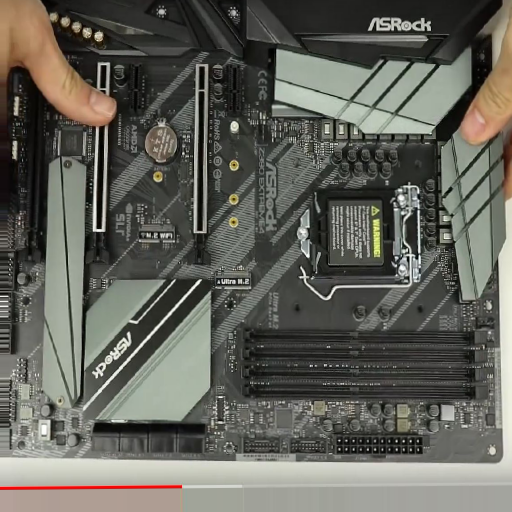CPU: (291, 186, 410, 281)
GPU: (183, 64, 214, 268), (15, 65, 45, 267), (85, 61, 112, 267)
MOTHERBOARD: (5, 1, 505, 471)
RAM: (232, 327, 490, 404)
SSD: (136, 222, 179, 247), (212, 266, 255, 291)
